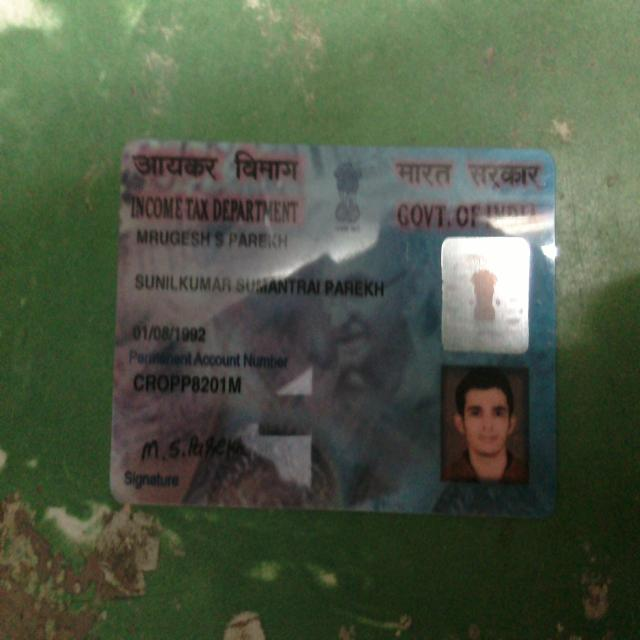pan_card: (112, 144, 554, 517)
